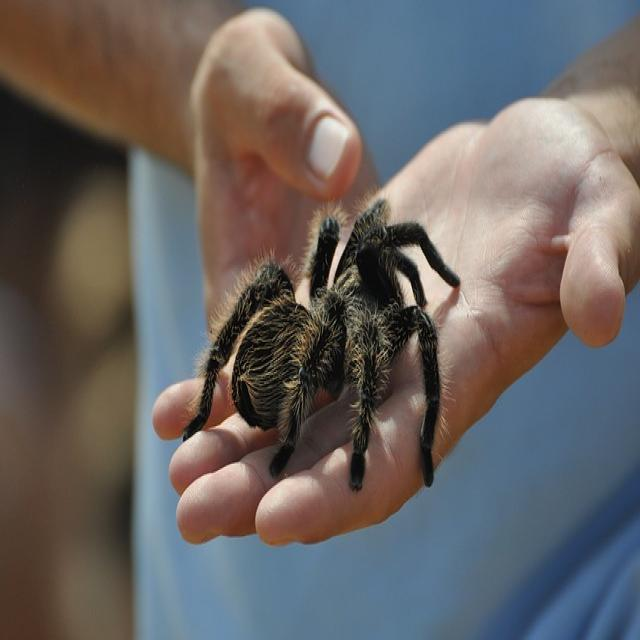spyder: (182, 200, 461, 492)
